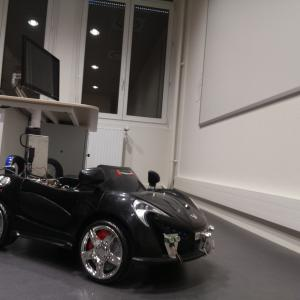big: (1, 155, 217, 285)
